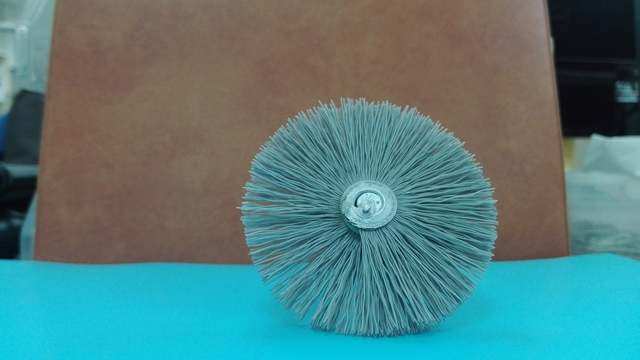TOOL: (116, 59, 491, 359), (178, 75, 549, 354), (210, 86, 501, 338), (291, 104, 581, 337)
